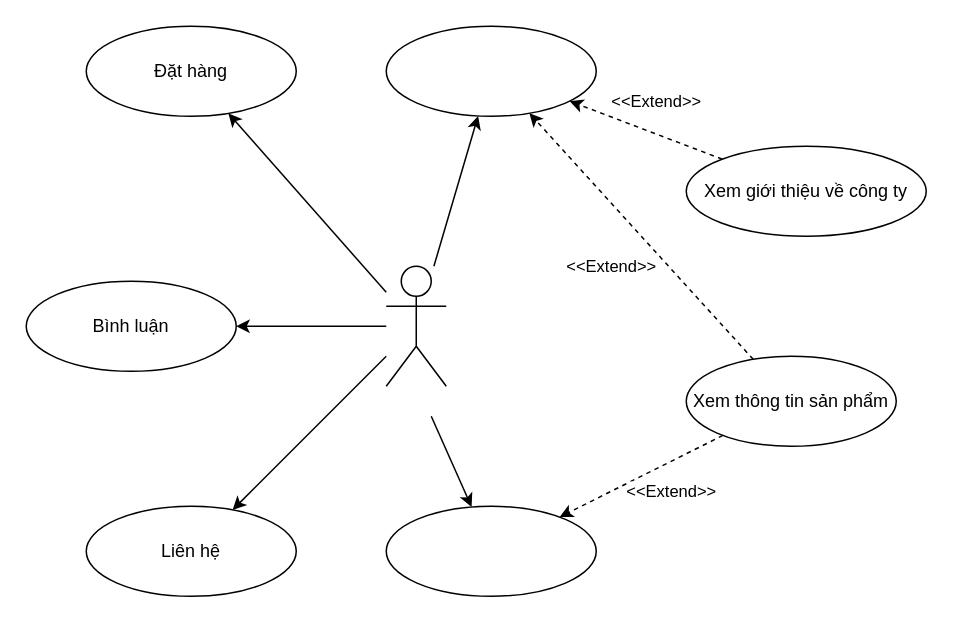
The diagram is 953 pixels wide and 623 high, and some of its shapes have lost their labels. The shapes that lost their labels are listed below. From the top down, each one's centre as x and y in pixels, then its label:
At point 490,70: "Xem thông tin website".
At point 415,325: "Khách hàng".
At point 490,550: "Tìm kiếm sản phẩm".
